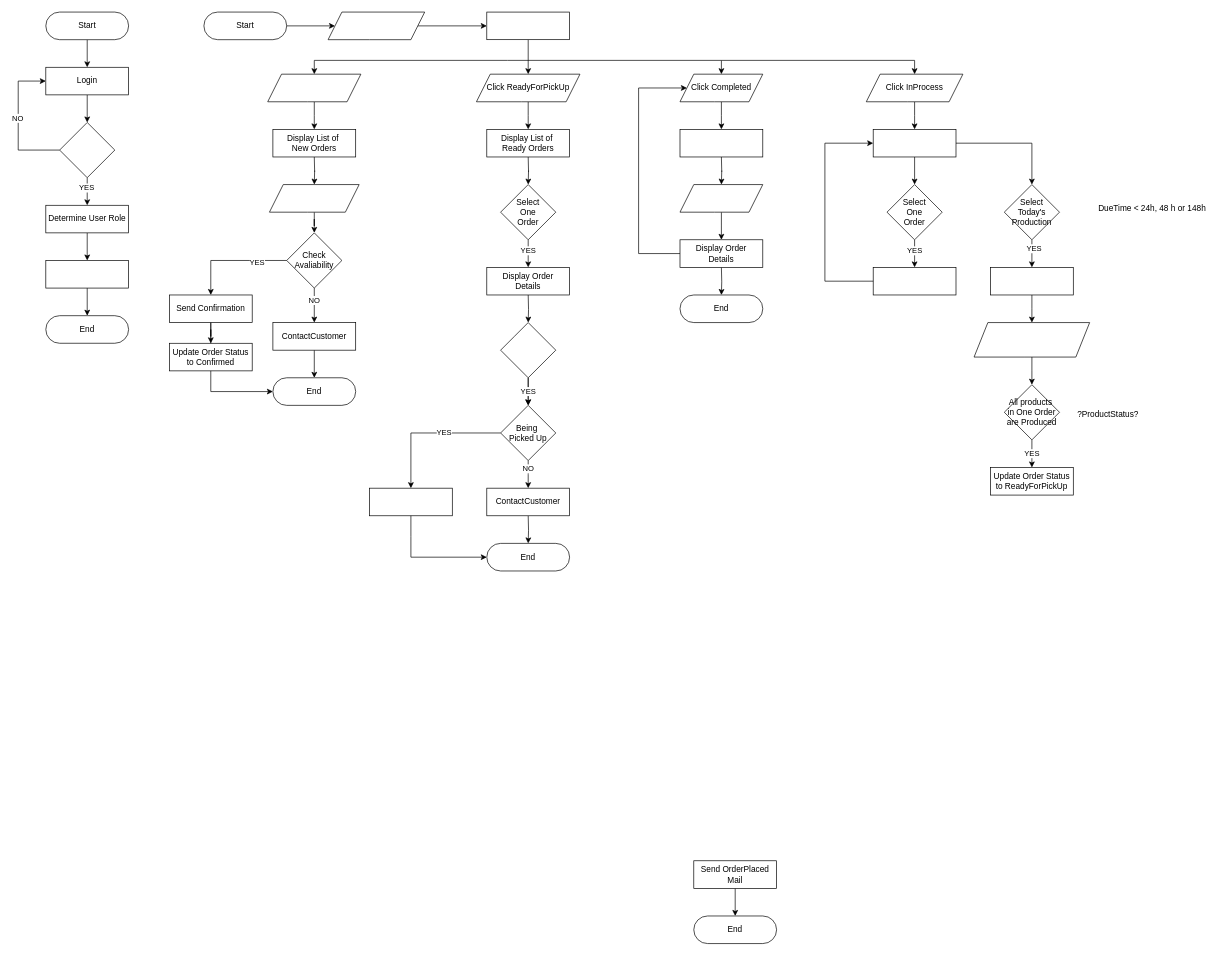
Image size: 1225x956. Some labels were removed from this diagram. Each missing label, with the centre of its shape:
"Click Confirmation" goes at [314,87].
"Click OrderOverview" goes at [376,25].
"Cliick One Order" goes at [721,198].
"Display All Orders by Status" goes at [528,25].
"Display ALL Orders InProcess" goes at [914,143].
"Display All Products and Recipes with Merged Quantity" goes at [1031,281].
"Display List of Completed Orders" goes at [721,143].
"Display Products and recipes" goes at [914,281].
"Display View" goes at [87,274].
"Due Time" goes at [528,350].
"Get Order Products" goes at [314,198].
"Login Is Valid" goes at [87,150].
"Production. Deduct comsumed ingredients, Update Stock" goes at [1031,339].
"Update Order Status to Completed" goes at [410,501].
